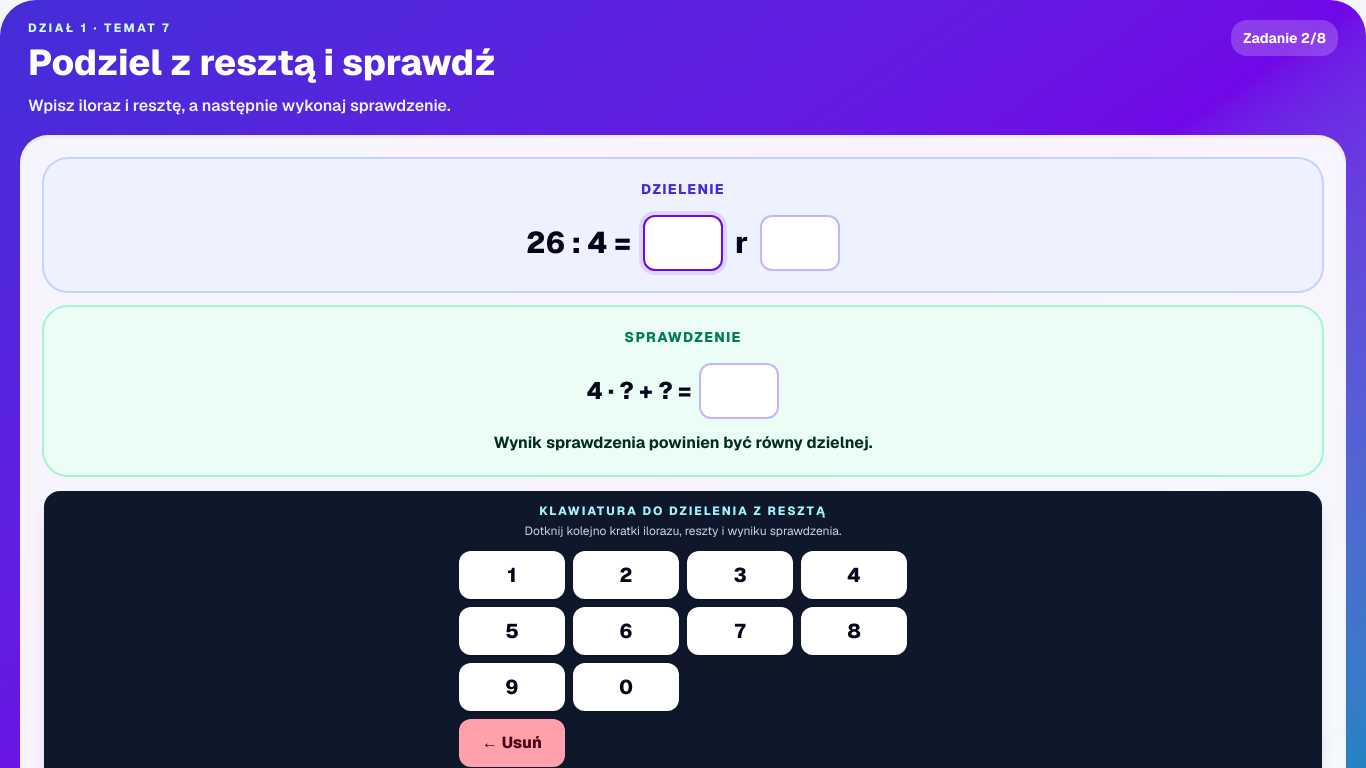
Test: Grade4RemainderDivisionLessonLab › po niepoprawnej odpowiedzi podaje wynik i całe sprawdzenie
Click the button "1" at (512, 575), box [459,551,565,599]
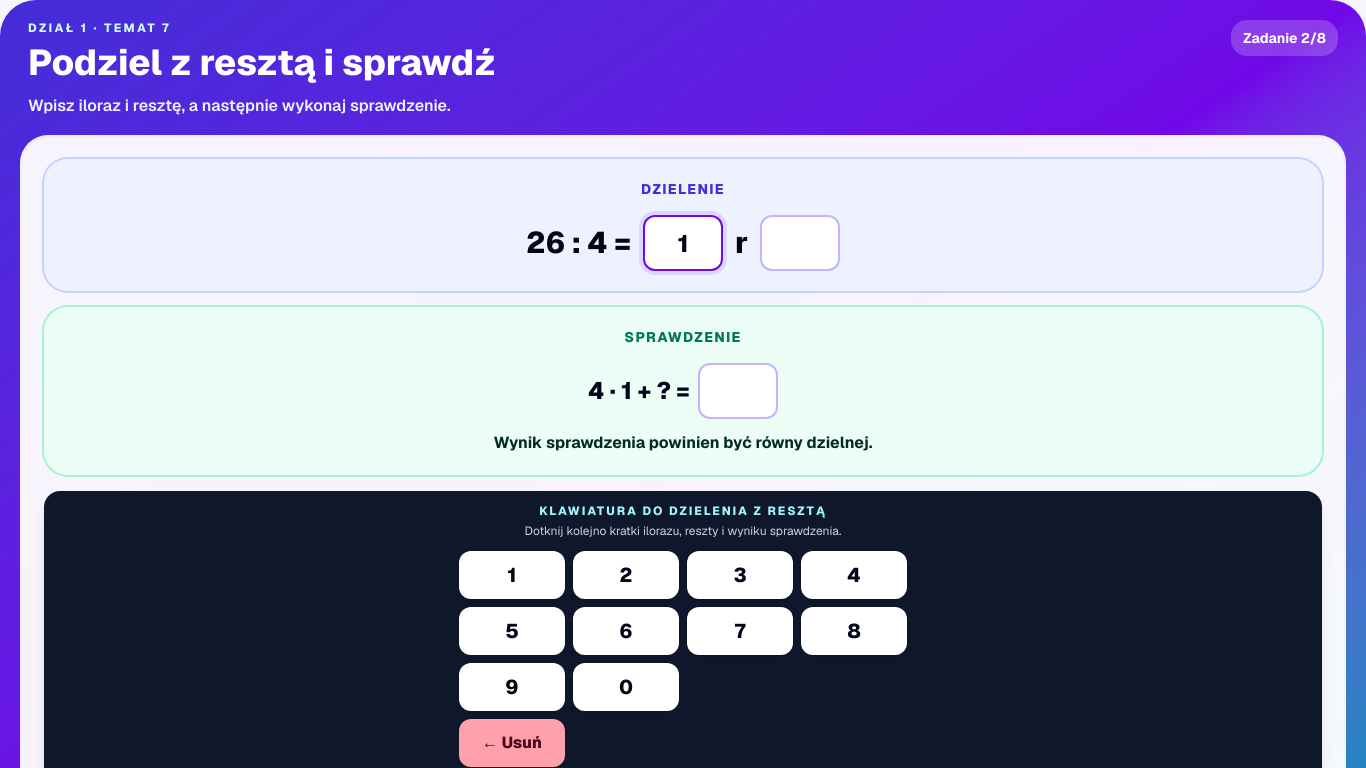
Click the field named "Reszta" at (800, 243), box [760,215,840,271]
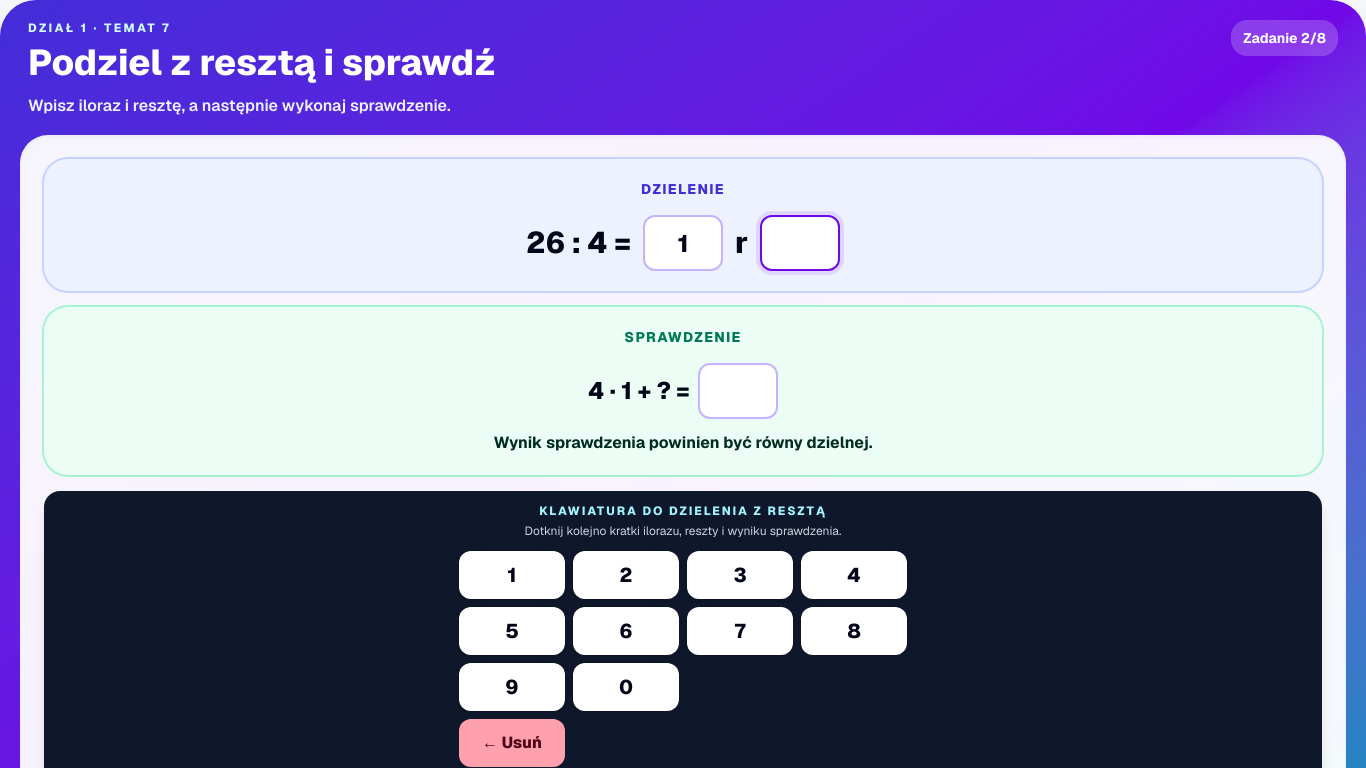
Click the button "1" at (512, 575), box [459,551,565,599]
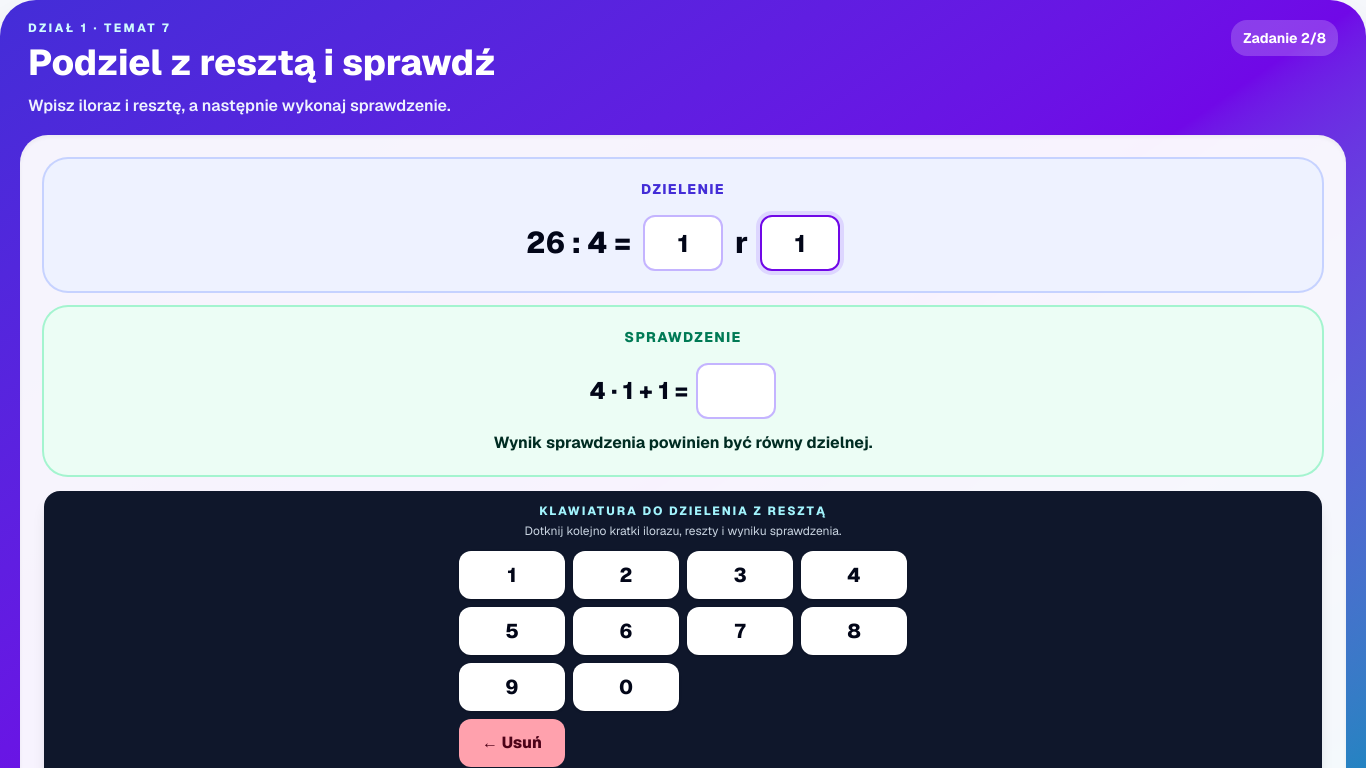
Click the field named "Wynik sprawdzenia" at (736, 391), box [696,363,776,419]
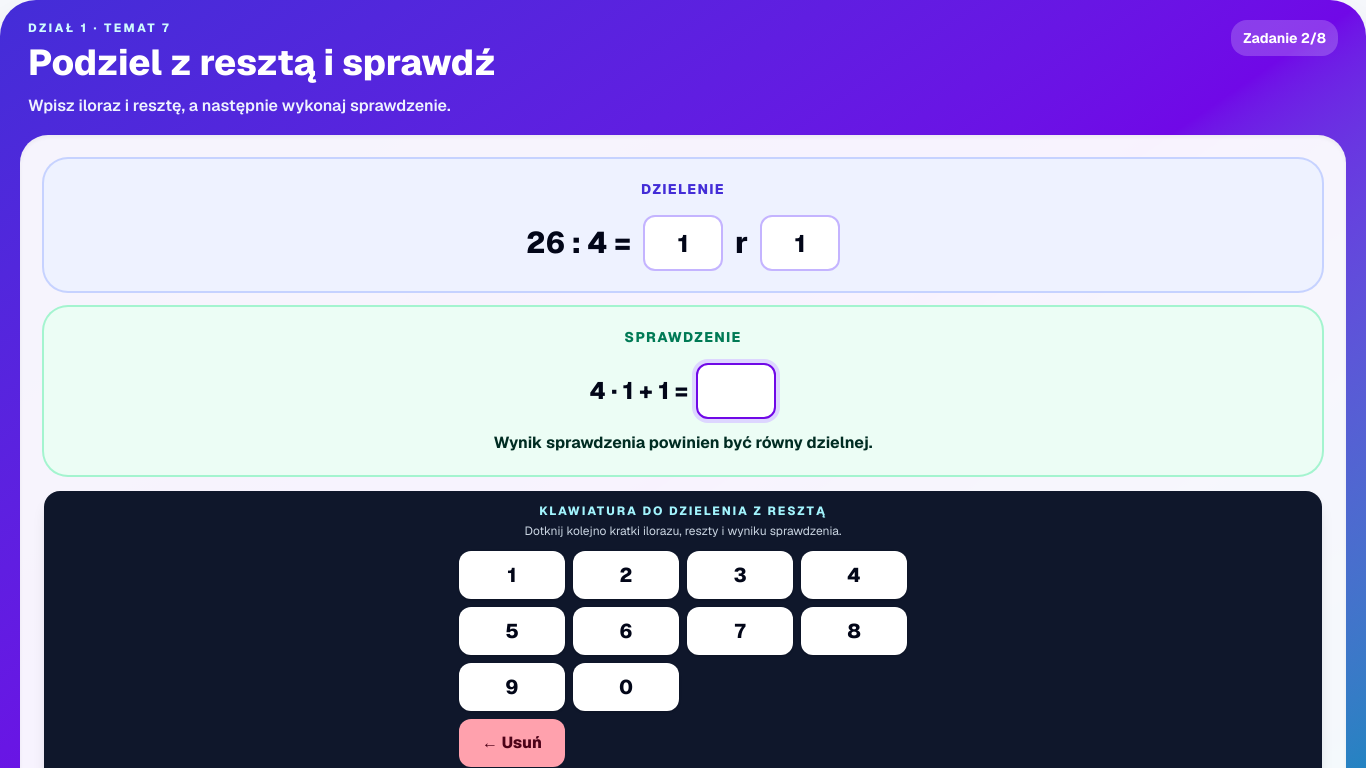
Click the button "1" at (512, 575), box [459,551,565,599]
(page scrolled)
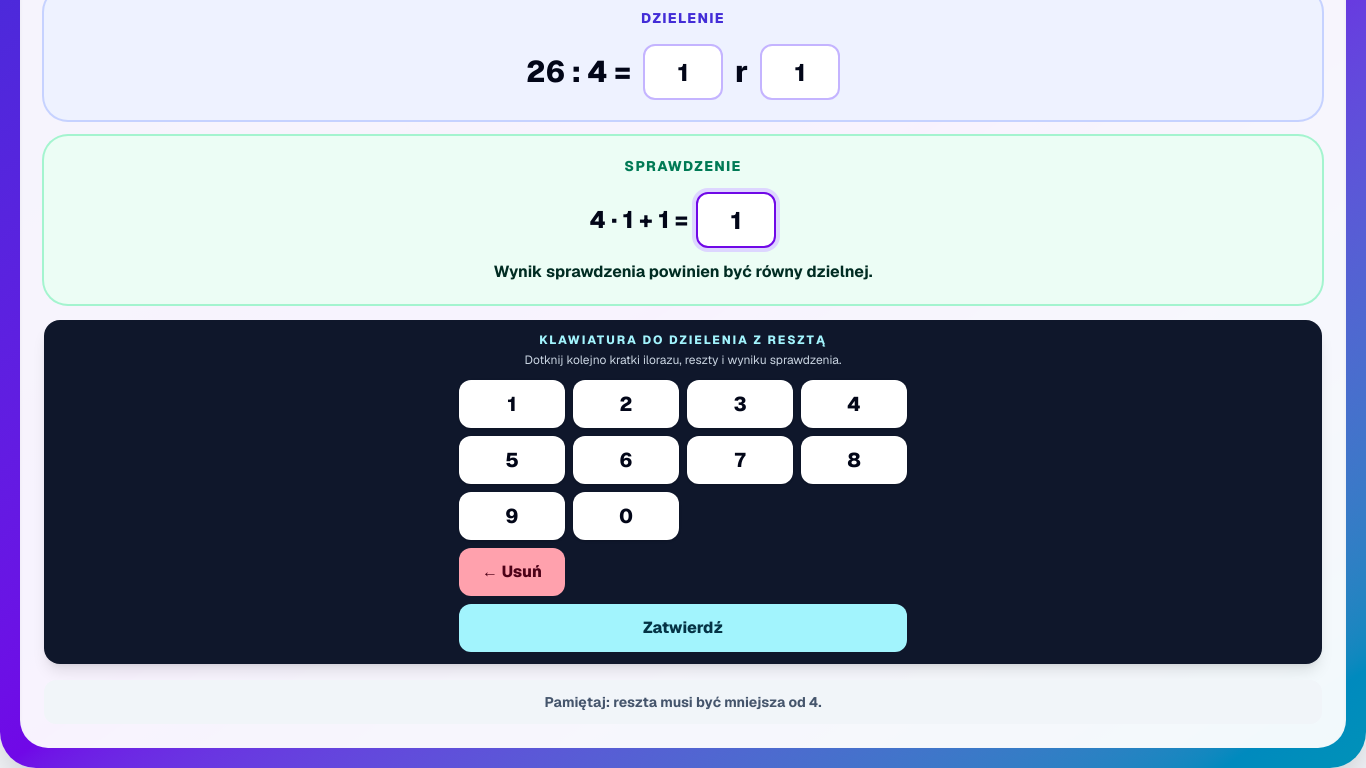
Click the button "Zatwierdź" at (683, 628), box [459,604,907,652]
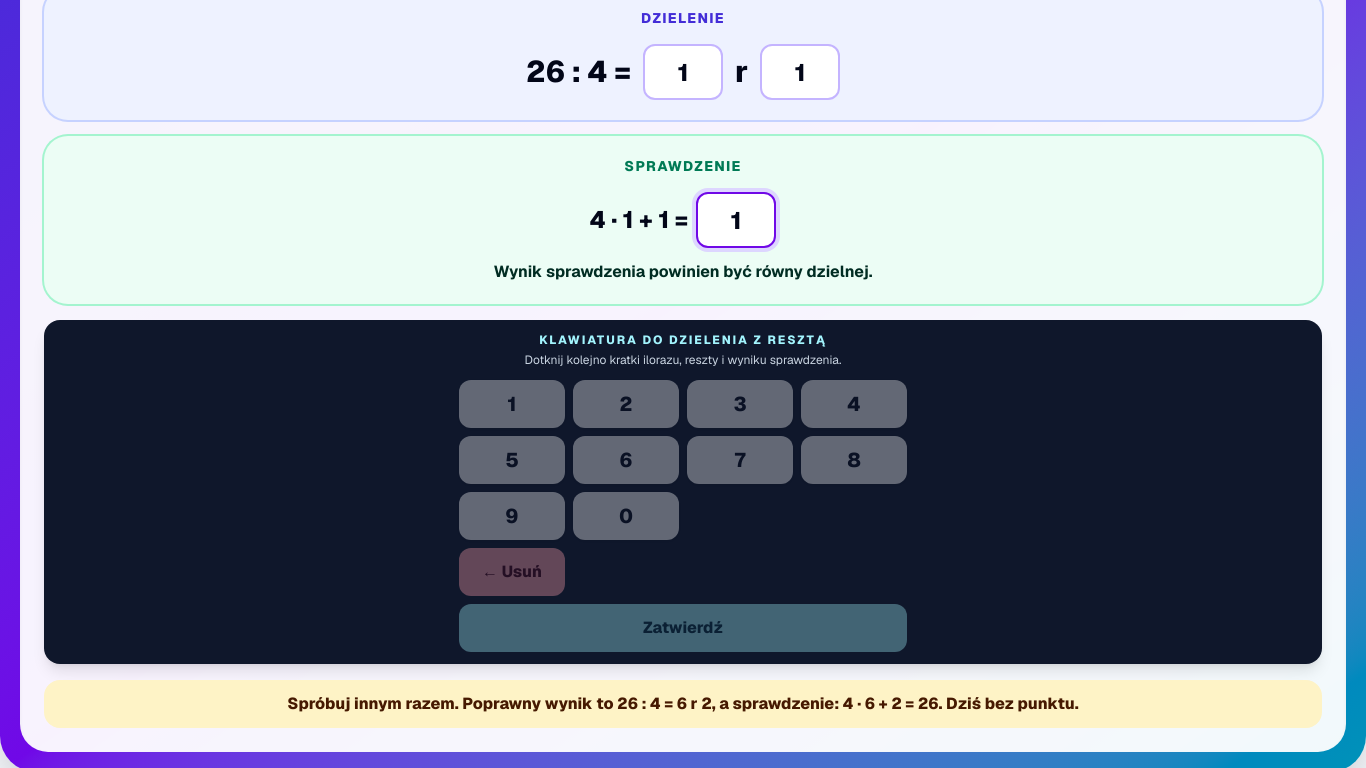
Expected: the message shows "Spróbuj innym razem. Poprawny wynik to 26 : 4 = 6 r 2, a sprawdzenie: 4 · 6 + 2 = 26. Dziś bez punktu.", [44,680,1322,728]
